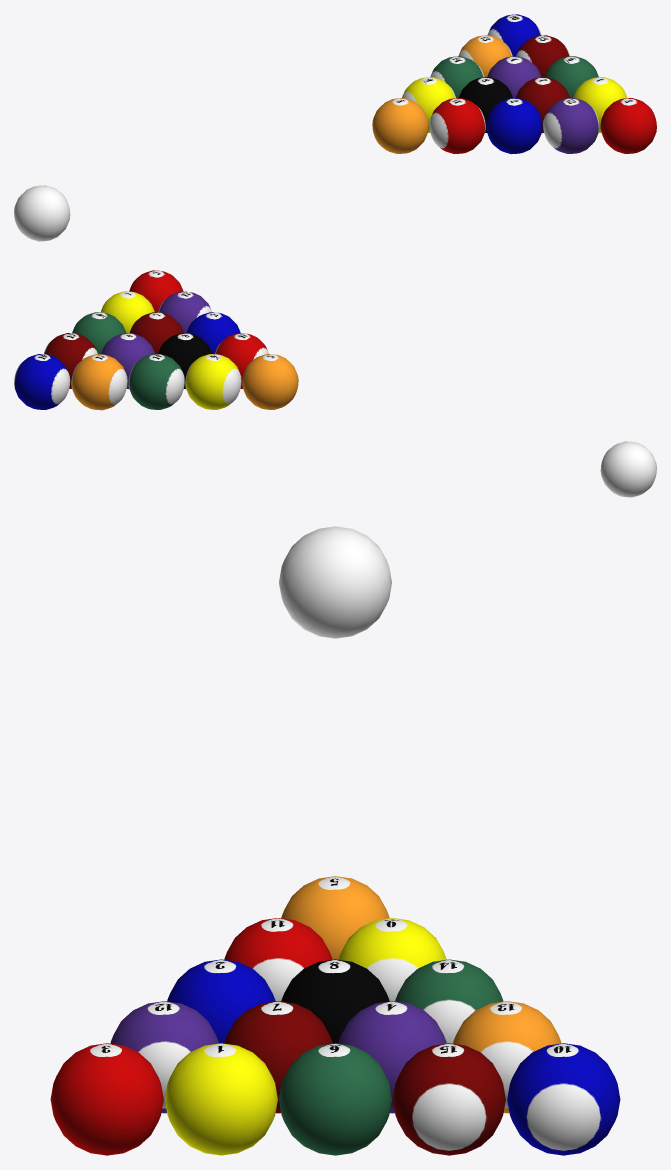
Rendered from Balls.FBX.
The picture shows the model from 3 angles, top to bottom: view 1: azimuth 30°, elevation 25°; view 2: azimuth 150°, elevation 25°; view 3: azimuth 270°, elevation 25°; orthographic projection. The views are drawn at different scales.
Visible parts, largest first — view 1: Ball_02, Ball_05, Ball_11, Ball_00, Ball_12, Ball_03, Ball_01, Ball_09, Ball_07, Ball_08, Ball_10, Ball_06 (+4 smaller); view 2: Ball_14, Ball_05, Ball_09, Ball_13, Ball_00, Ball_10, Ball_15, Ball_04, Ball_11, Ball_08, Ball_03, Ball_06 (+4 smaller); view 3: Ball_06, Ball_00, Ball_03, Ball_10, Ball_01, Ball_15, Ball_13, Ball_07, Ball_12, Ball_04, Ball_14, Ball_05 (+4 smaller).
Part boxes in pixels (x1,y1,x2,y2): Ball_02: (486, 98, 542, 154); Ball_05: (372, 98, 428, 153); Ball_11: (429, 98, 485, 153); Ball_00: (14, 185, 70, 241); Ball_12: (543, 98, 599, 153); Ball_03: (600, 98, 656, 153); Ball_01: (573, 77, 627, 132); Ball_09: (402, 77, 455, 132); Ball_07: (516, 77, 569, 133); Ball_08: (459, 77, 512, 132); Ball_10: (487, 14, 541, 56); Ball_06: (544, 56, 598, 98); Ball_14: (128, 354, 184, 409); Ball_05: (242, 354, 298, 409); Ball_09: (185, 354, 241, 409); Ball_13: (71, 354, 127, 410); Ball_00: (600, 441, 656, 497); Ball_10: (14, 354, 70, 409); Ball_15: (44, 333, 97, 388); Ball_04: (101, 333, 154, 388); Ball_11: (215, 333, 268, 388); Ball_08: (158, 333, 211, 388); Ball_03: (129, 270, 183, 312); Ball_06: (72, 312, 126, 354); Ball_06: (279, 1043, 391, 1155); Ball_00: (279, 526, 391, 638); Ball_03: (50, 1043, 163, 1155); Ball_10: (507, 1043, 620, 1155); Ball_01: (164, 1043, 277, 1155); Ball_15: (392, 1043, 505, 1155); Ball_13: (453, 1001, 561, 1113); Ball_07: (224, 1001, 332, 1113); Ball_12: (110, 1001, 218, 1113); Ball_04: (338, 1001, 446, 1113); Ball_14: (395, 959, 503, 1043); Ball_05: (281, 876, 389, 959).
Bounding box in the file's own units: 6.75 × 0.572 × 2.88.
